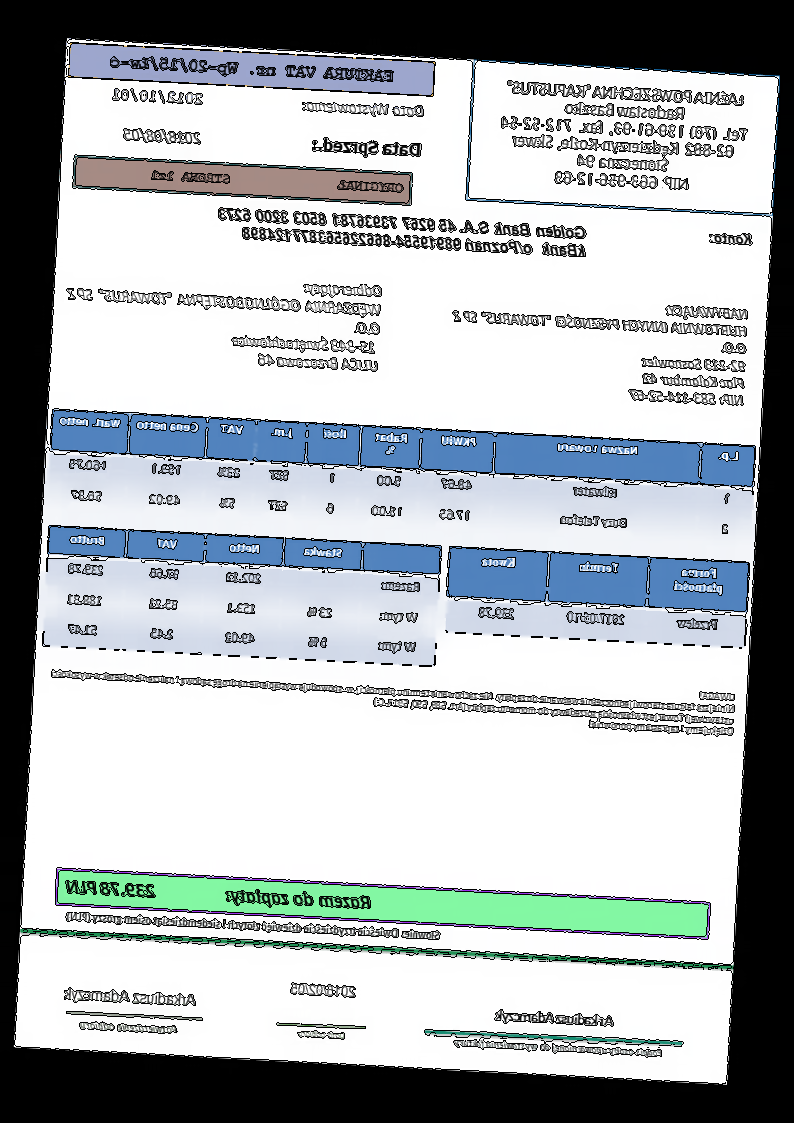Table: (46, 408, 757, 552), (42, 524, 443, 667), (444, 545, 752, 650)
TextBox: (49, 655, 738, 738), (446, 290, 751, 408), (62, 266, 385, 375), (495, 77, 752, 195), (215, 206, 589, 260), (66, 908, 443, 943), (63, 876, 374, 913), (106, 51, 396, 86), (149, 165, 407, 197), (451, 1034, 665, 1061), (61, 985, 199, 1011), (299, 96, 426, 122), (310, 134, 424, 161), (493, 1007, 616, 1030), (108, 86, 205, 109), (79, 1018, 181, 1036), (121, 126, 203, 146), (290, 980, 359, 1000), (709, 229, 754, 248), (298, 1027, 348, 1041)
